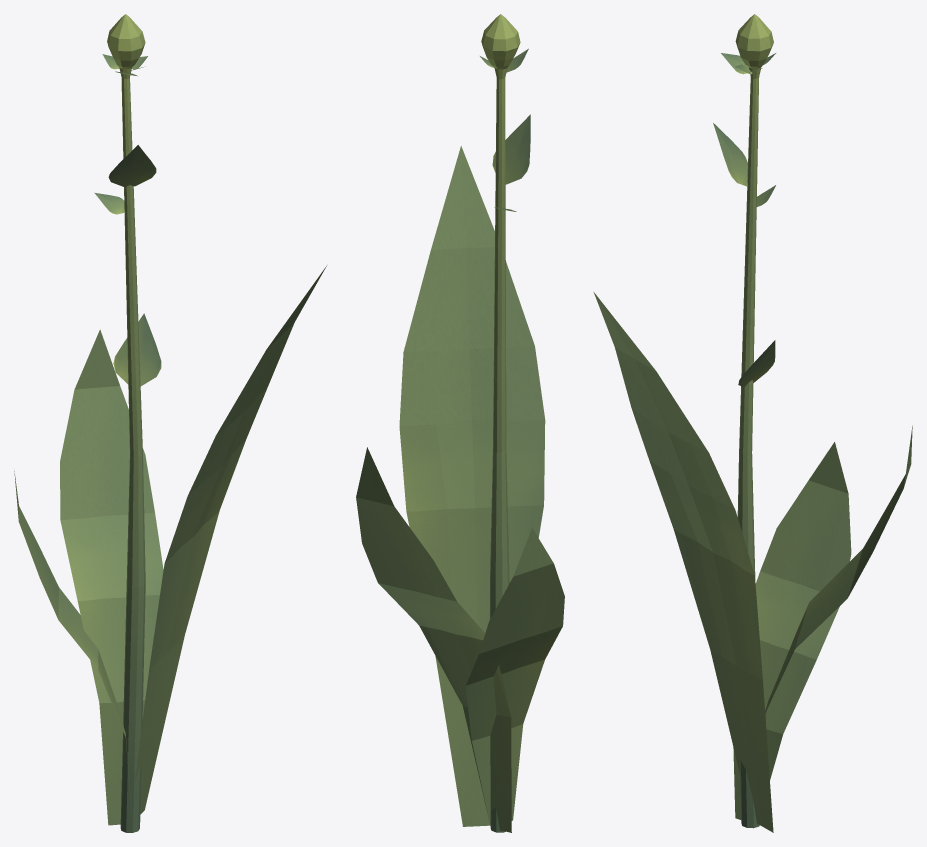
Rendered from flowerBud.fbx.
The picture shows the model from 3 angles, left to right: view 1: azimuth 30°, elevation 25°; view 2: azimuth 150°, elevation 25°; view 3: azimuth 270°, elevation 25°; orthographic projection.
Parts seen in each view (by area): view 1: flower BUD; view 2: flower BUD; view 3: flower BUD.
Boxes of the visible parts, x1,y1,x2,y2 form: flower BUD: (14,14,326,832); flower BUD: (356,14,564,832); flower BUD: (593,14,912,832).
Size of the model in its own units: 23.78 by 92.13 by 32.96.
